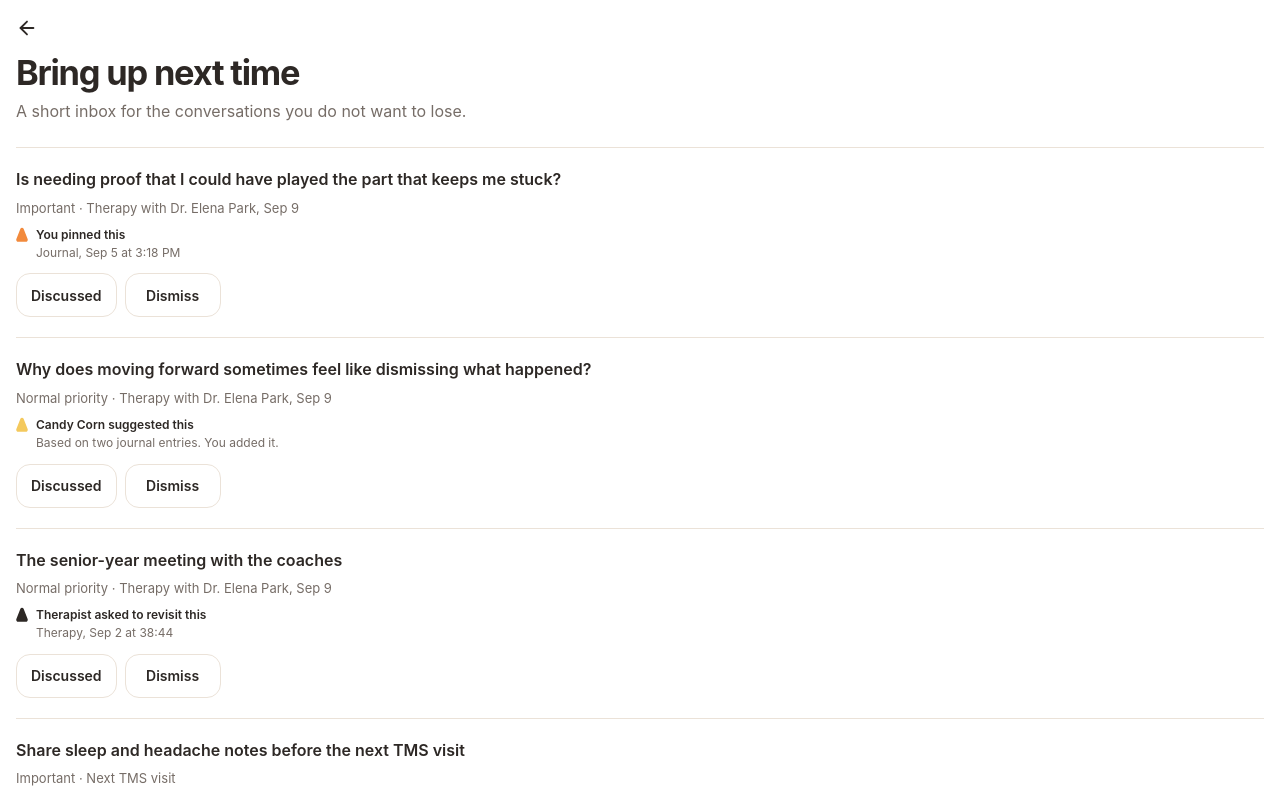
Test: BringUpScreen › shows therapy and TMS items, updates status, and guards an empty manual add
Expected: the text "Share sleep and headache notes before the next TMS visit" is shown, [16,740,465,760]
Expected: the text "Therapy with Dr. Elena Park, Sep 9" is shown, [86,200,299,216]
Step 1. Click the button with aria-label "Mark discussed: Is needing proof" → {"x": 66, "y": 295}, box [16,273,117,317]
(page scrolled)
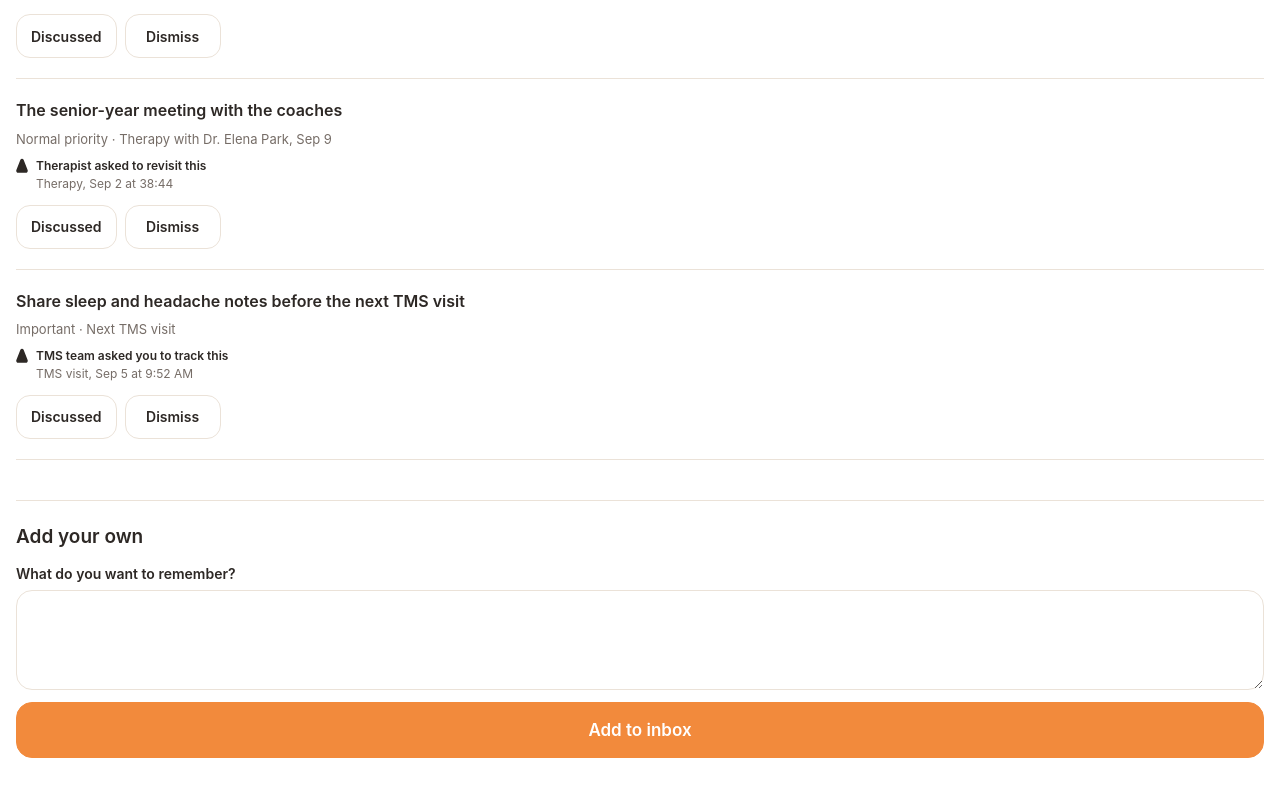
Expected: the text "Is needing proof that I could have played the part that keeps me stuck?" is gone
Step 2. Click the button "Add to inbox" → {"x": 640, "y": 730}, box [16,702,1264,758]
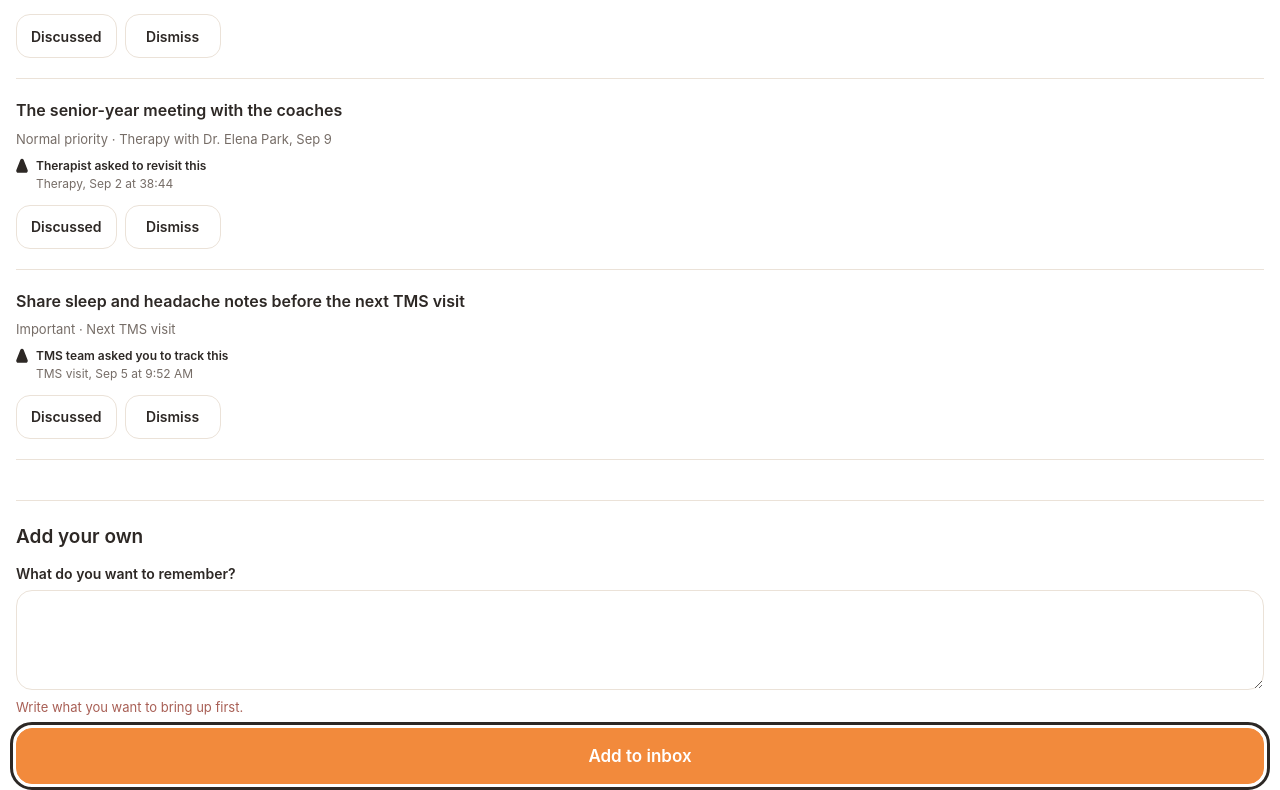
Expected: the message reads "Write what you want to bring up first.", [16,699,243,715]
